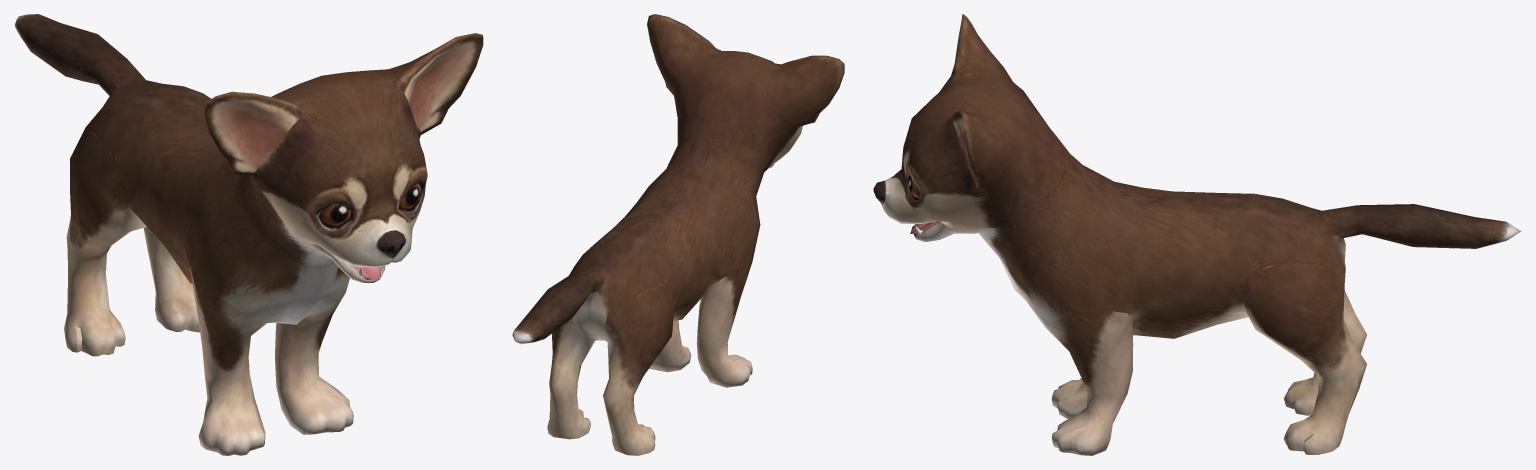
Rendered from Trufoso2.fbx.
3 views of the same model, side by side, from view 1: azimuth 30°, elevation 25°; view 2: azimuth 150°, elevation 25°; view 3: azimuth 270°, elevation 25° (orthographic). The views are drawn at different scales.
Visible parts, largest first — view 1: Meshpart002; view 2: Meshpart002; view 3: Meshpart002.
Boxes of the visible parts, x1=… form: Meshpart002: x1=14, y1=14, x2=483, y2=455; Meshpart002: x1=512, y1=14, x2=844, y2=455; Meshpart002: x1=873, y1=14, x2=1521, y2=455.
Size of the model in its own units: 0.813 by 1.18 by 1.91.
1 material, 1 textured.
